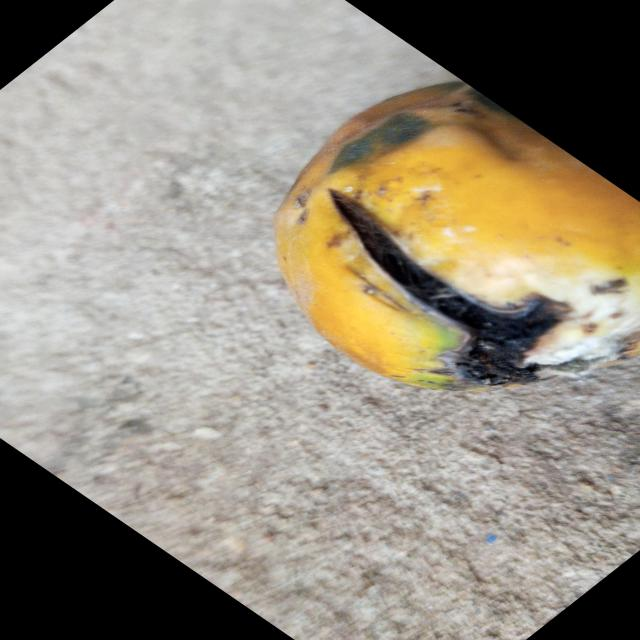damaged: (281, 85, 640, 390)
